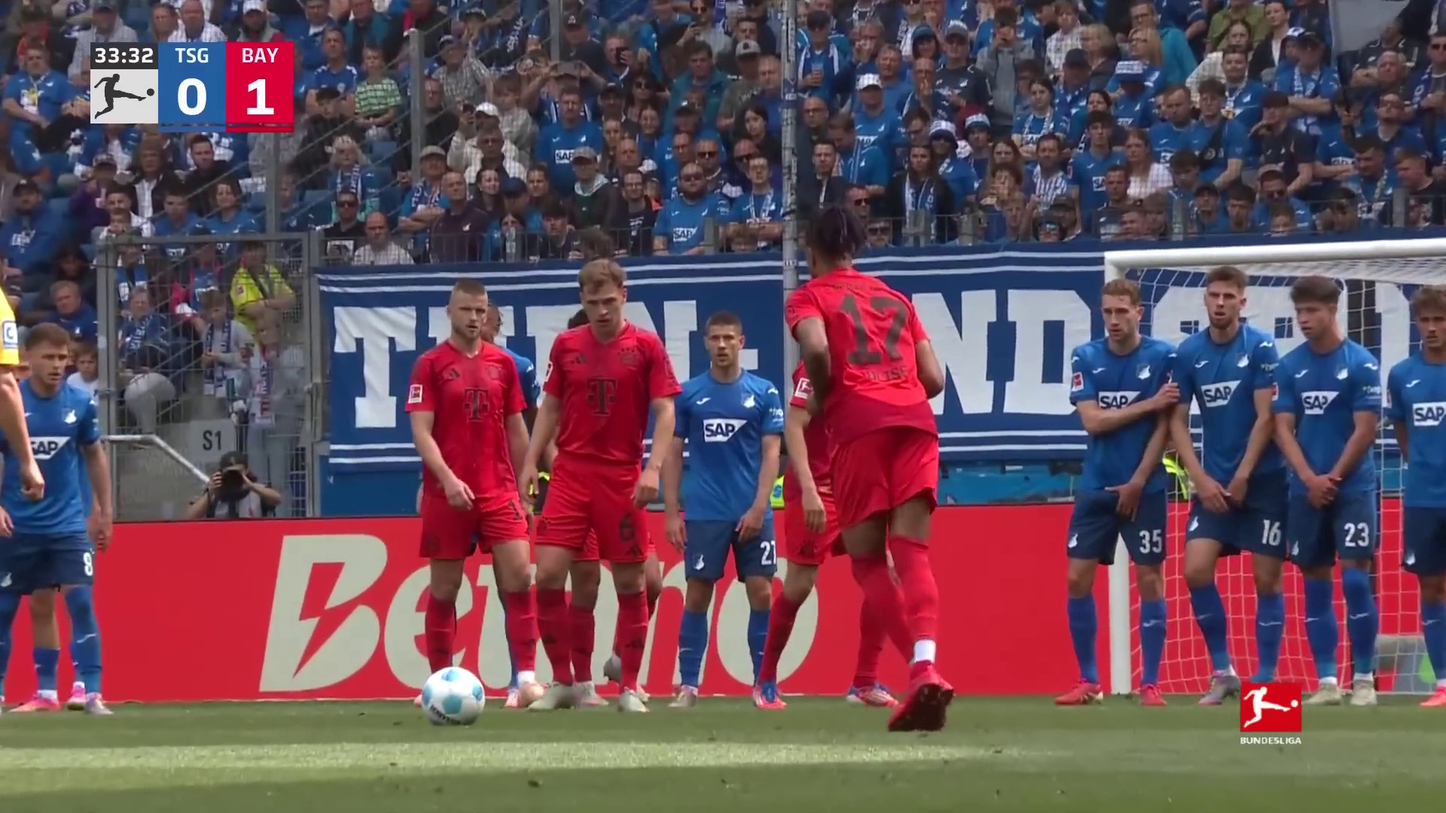ball: (413, 657, 487, 730)
player: (777, 201, 1008, 737), (504, 260, 680, 713), (389, 272, 554, 713), (1053, 279, 1191, 710), (1165, 267, 1279, 711), (664, 312, 790, 710), (1274, 272, 1383, 711), (0, 323, 111, 716), (1379, 282, 1446, 715)
